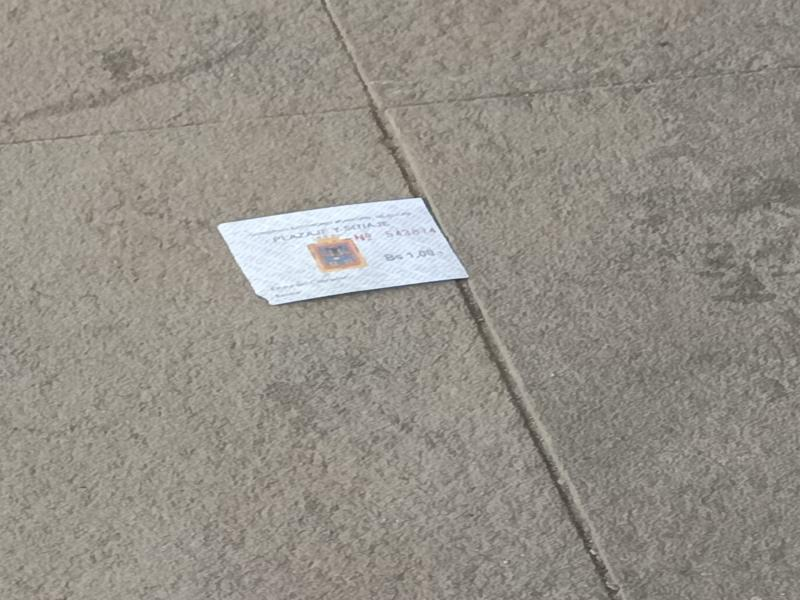papel: (215, 198, 469, 308)
